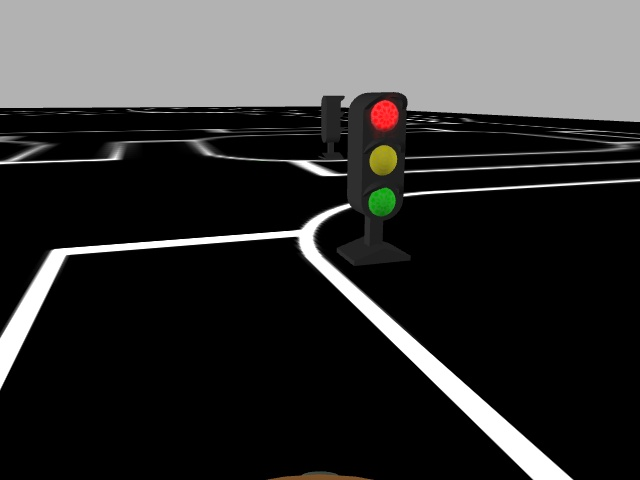red_light: (354, 91, 413, 221)
